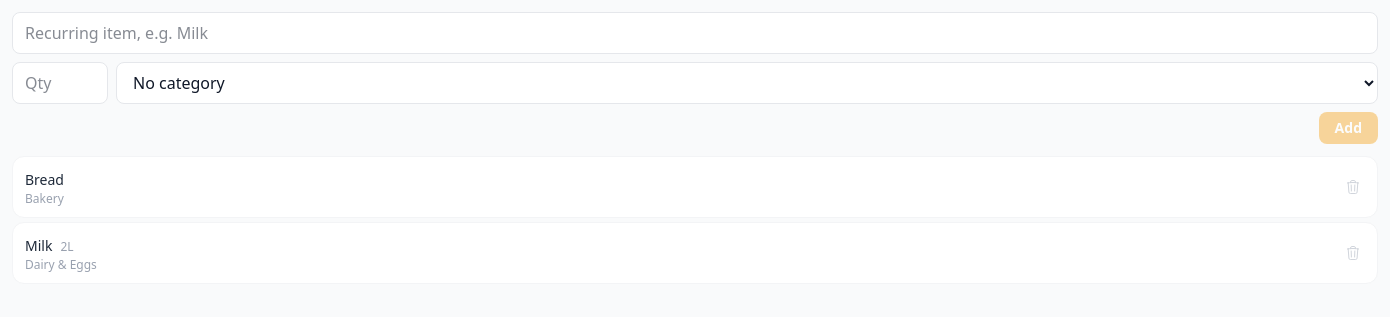
Test: RecurringManager › shows a server error inline
Type "Cereal" into the field named "Recurring item name".
click(695, 33); type("Cereal")  # box left=12, top=12, right=1378, bottom=54
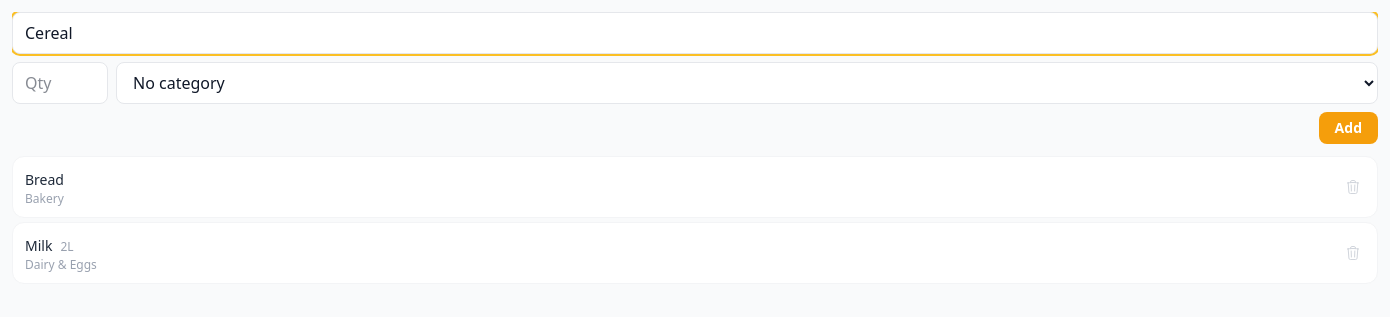
Click the button "Add".
click(1348, 128)  # box left=1319, top=112, right=1378, bottom=144
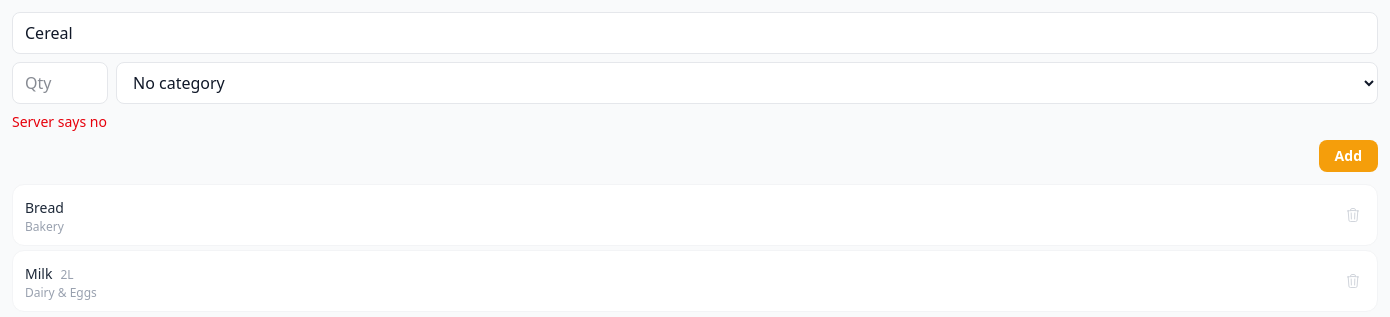
Check: the message reads "Server says no", box left=12, top=112, right=107, bottom=131
